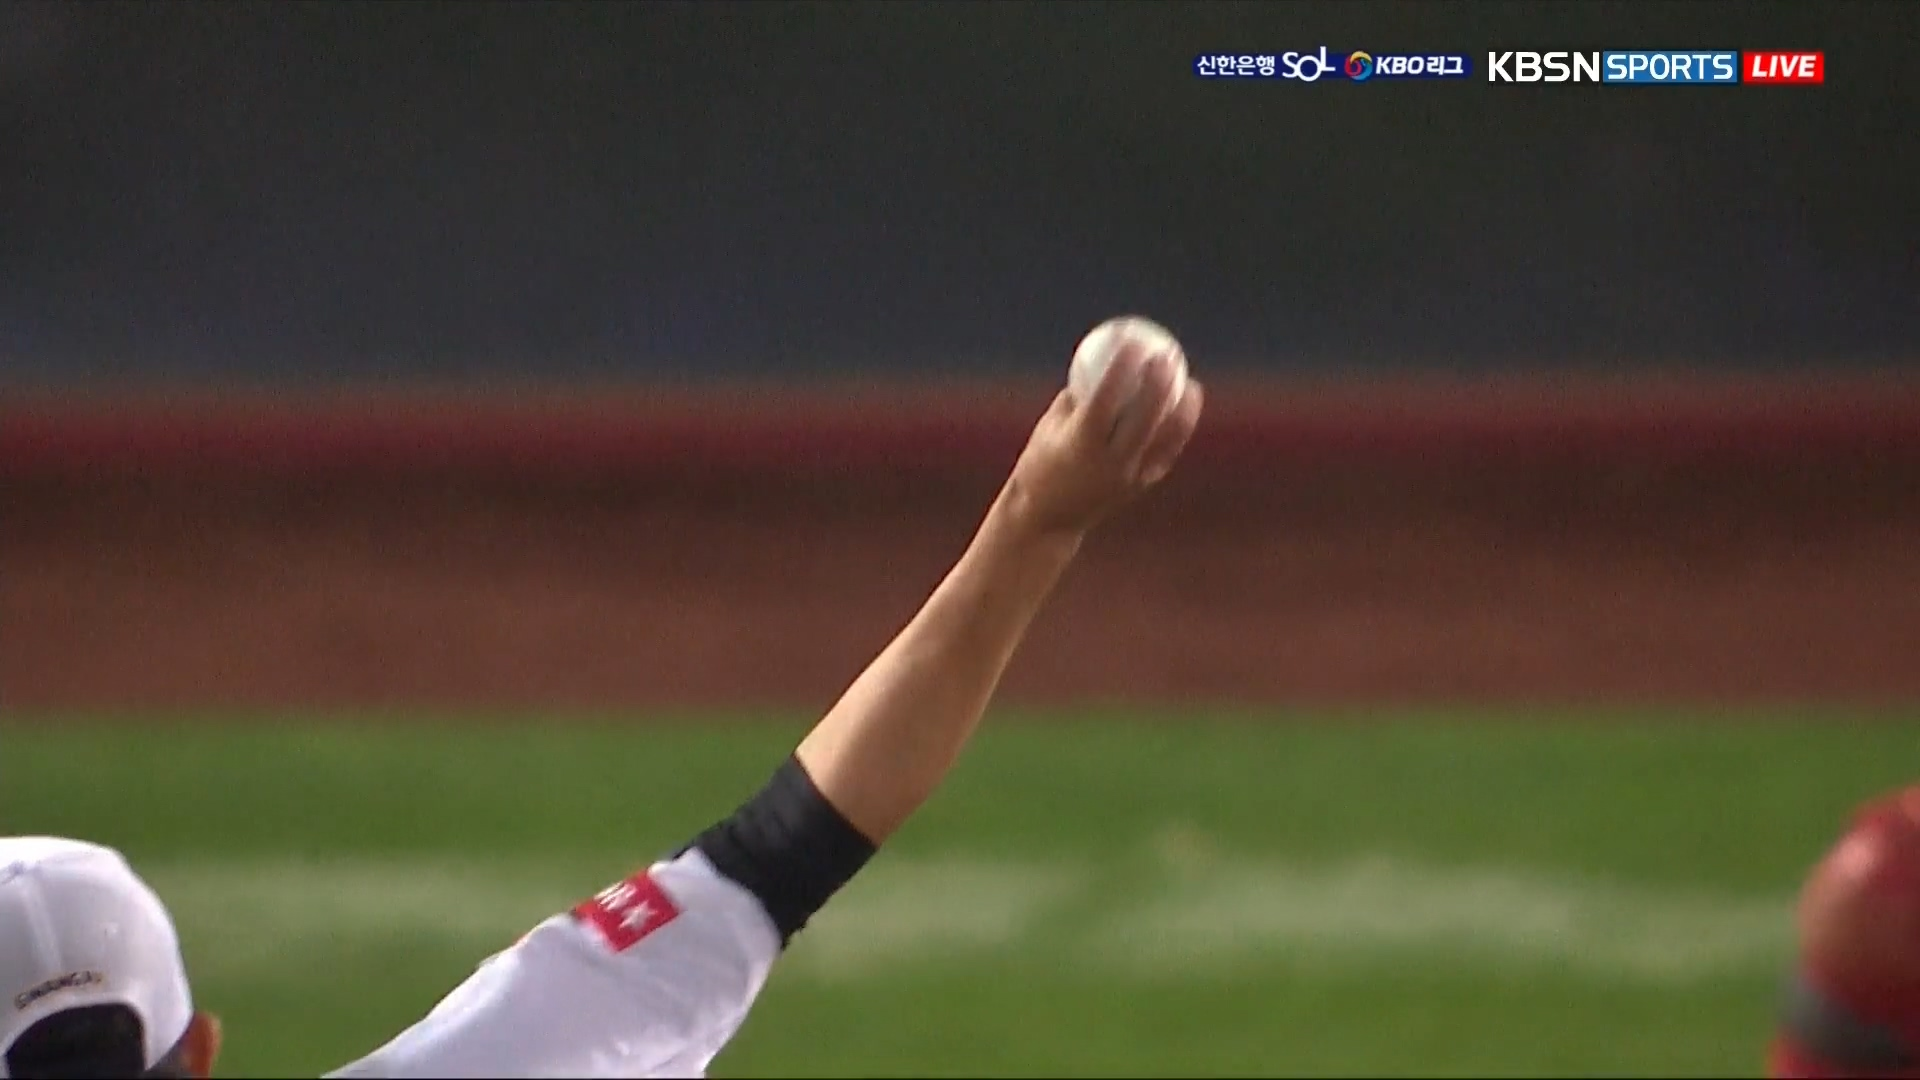zoomin_hand: (762, 302, 1220, 894)
